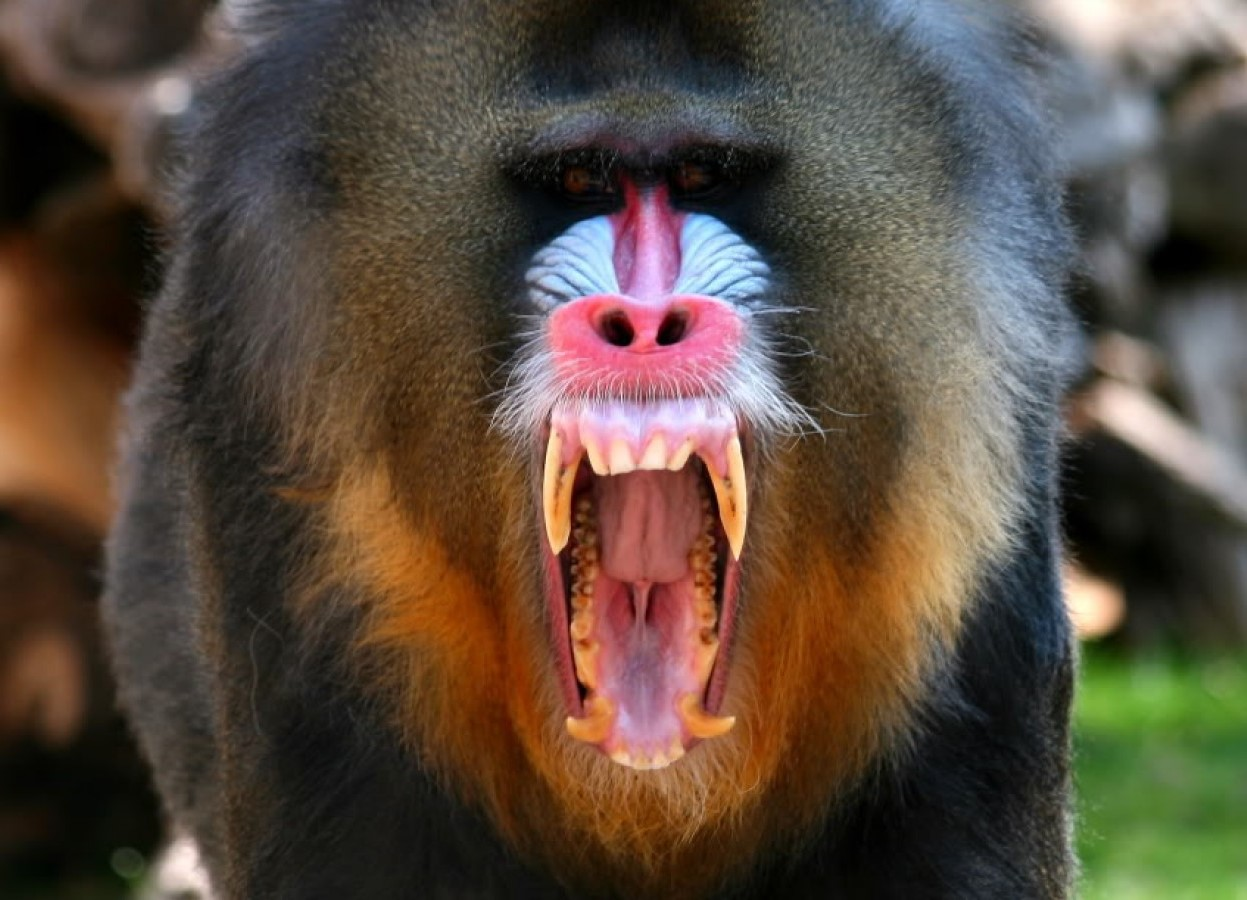Mandrill: (216, 18, 1047, 804)
